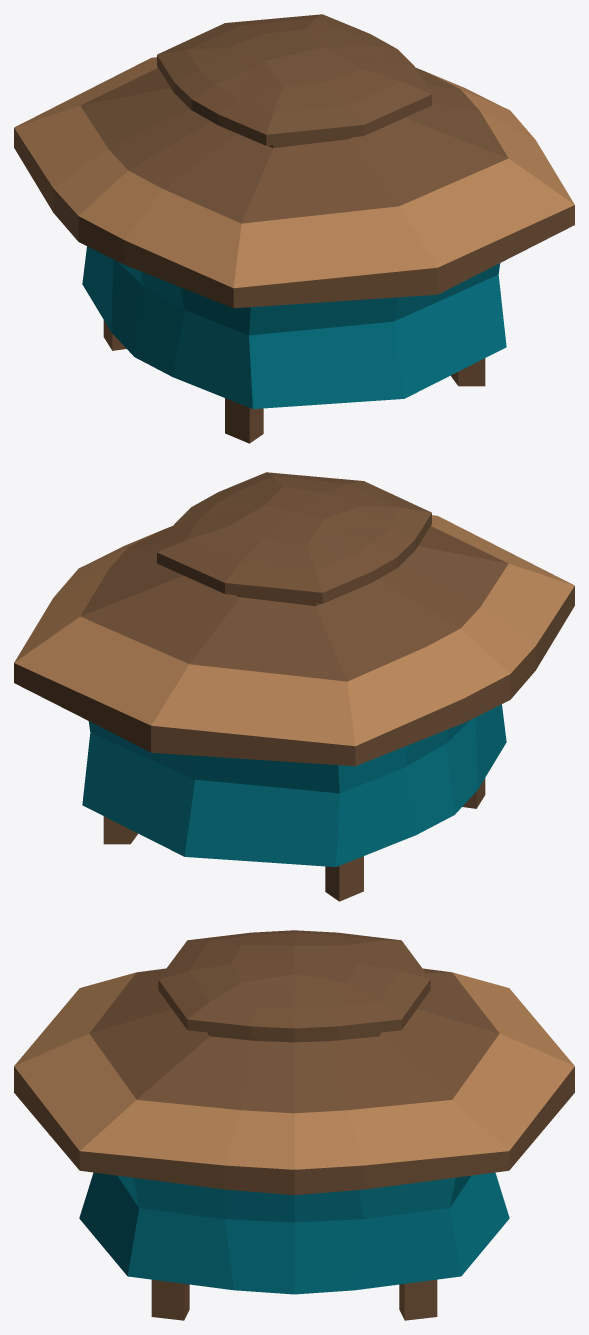
The model's file is casa_da_vila_v2.1.fbx.
3 renders of one model, top to bottom at view 1: azimuth 30°, elevation 25°; view 2: azimuth 150°, elevation 25°; view 3: azimuth 270°, elevation 25°, orthographic. The views are drawn at different scales.
Parts seen in each view (by area): view 1: Cube; view 2: Cube; view 3: Cube.
Boxes of the visible parts, x1,y1,x2,y2 form: Cube: (14, 14, 574, 443); Cube: (14, 472, 574, 901); Cube: (14, 930, 574, 1320).
Bounding box in the file's own units: 332 × 226 × 381.
Materials: 1 (1 with a texture image).
